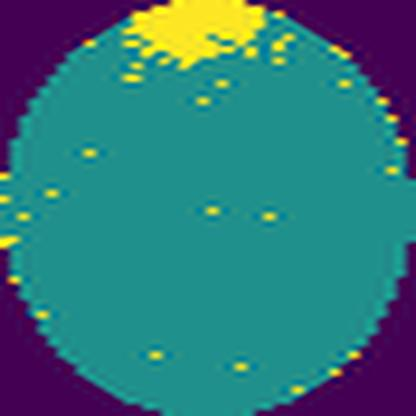Edge-Loc: (125, 0, 268, 70)
